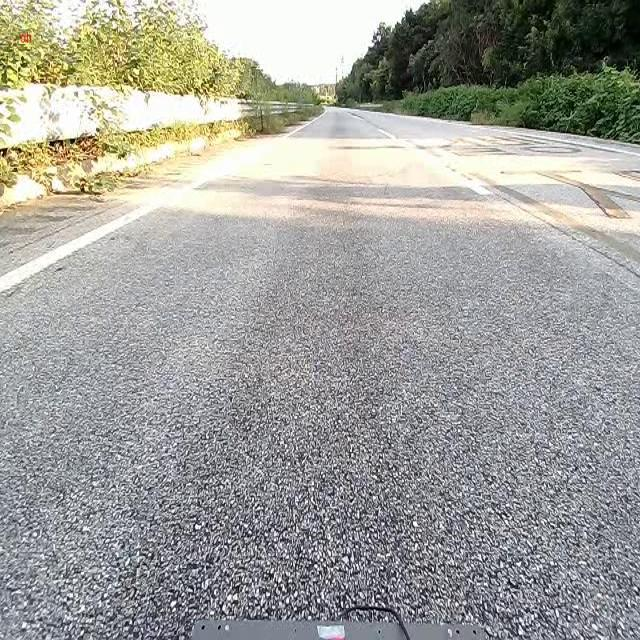Lane: (0, 206, 166, 300), (0, 203, 161, 293)
